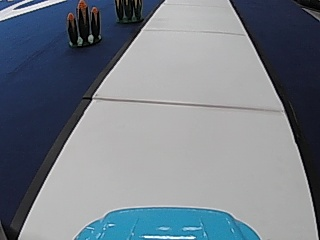corn: (65, 0, 103, 47), (114, 0, 144, 24)
